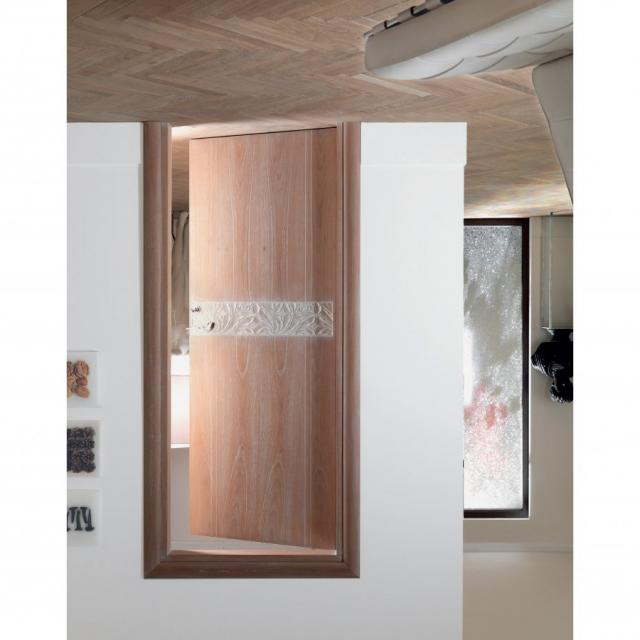open: (139, 121, 353, 572)
